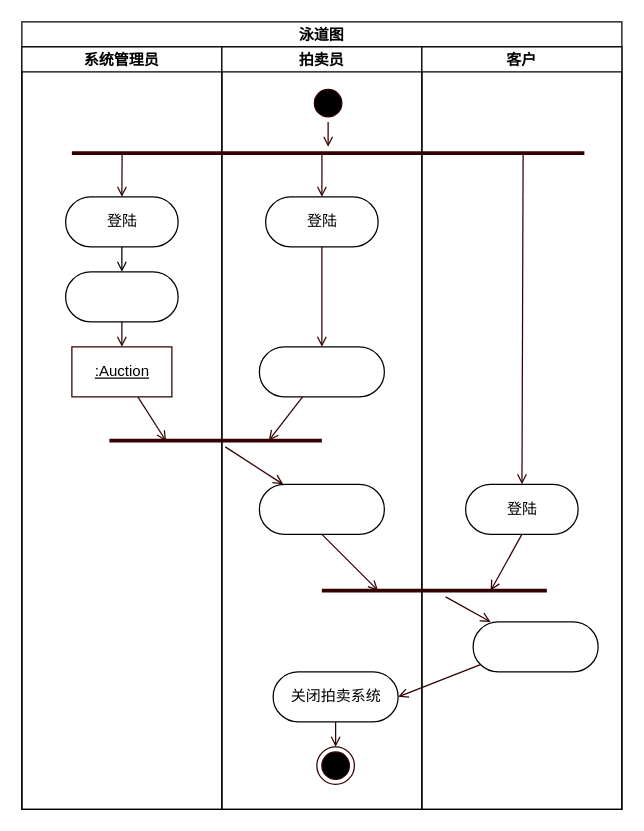
The diagram is 644 pixels wide and 831 high, and some of its shapes have lost their labels. The centre of each missing label's shape, as x and y in pixels:
"参与竞价" goes at point (535, 646).
"增加拍品信息" goes at point (121, 296).
"增加拍品到系统" goes at point (321, 371).
"开启拍卖系统" goes at point (321, 508).
